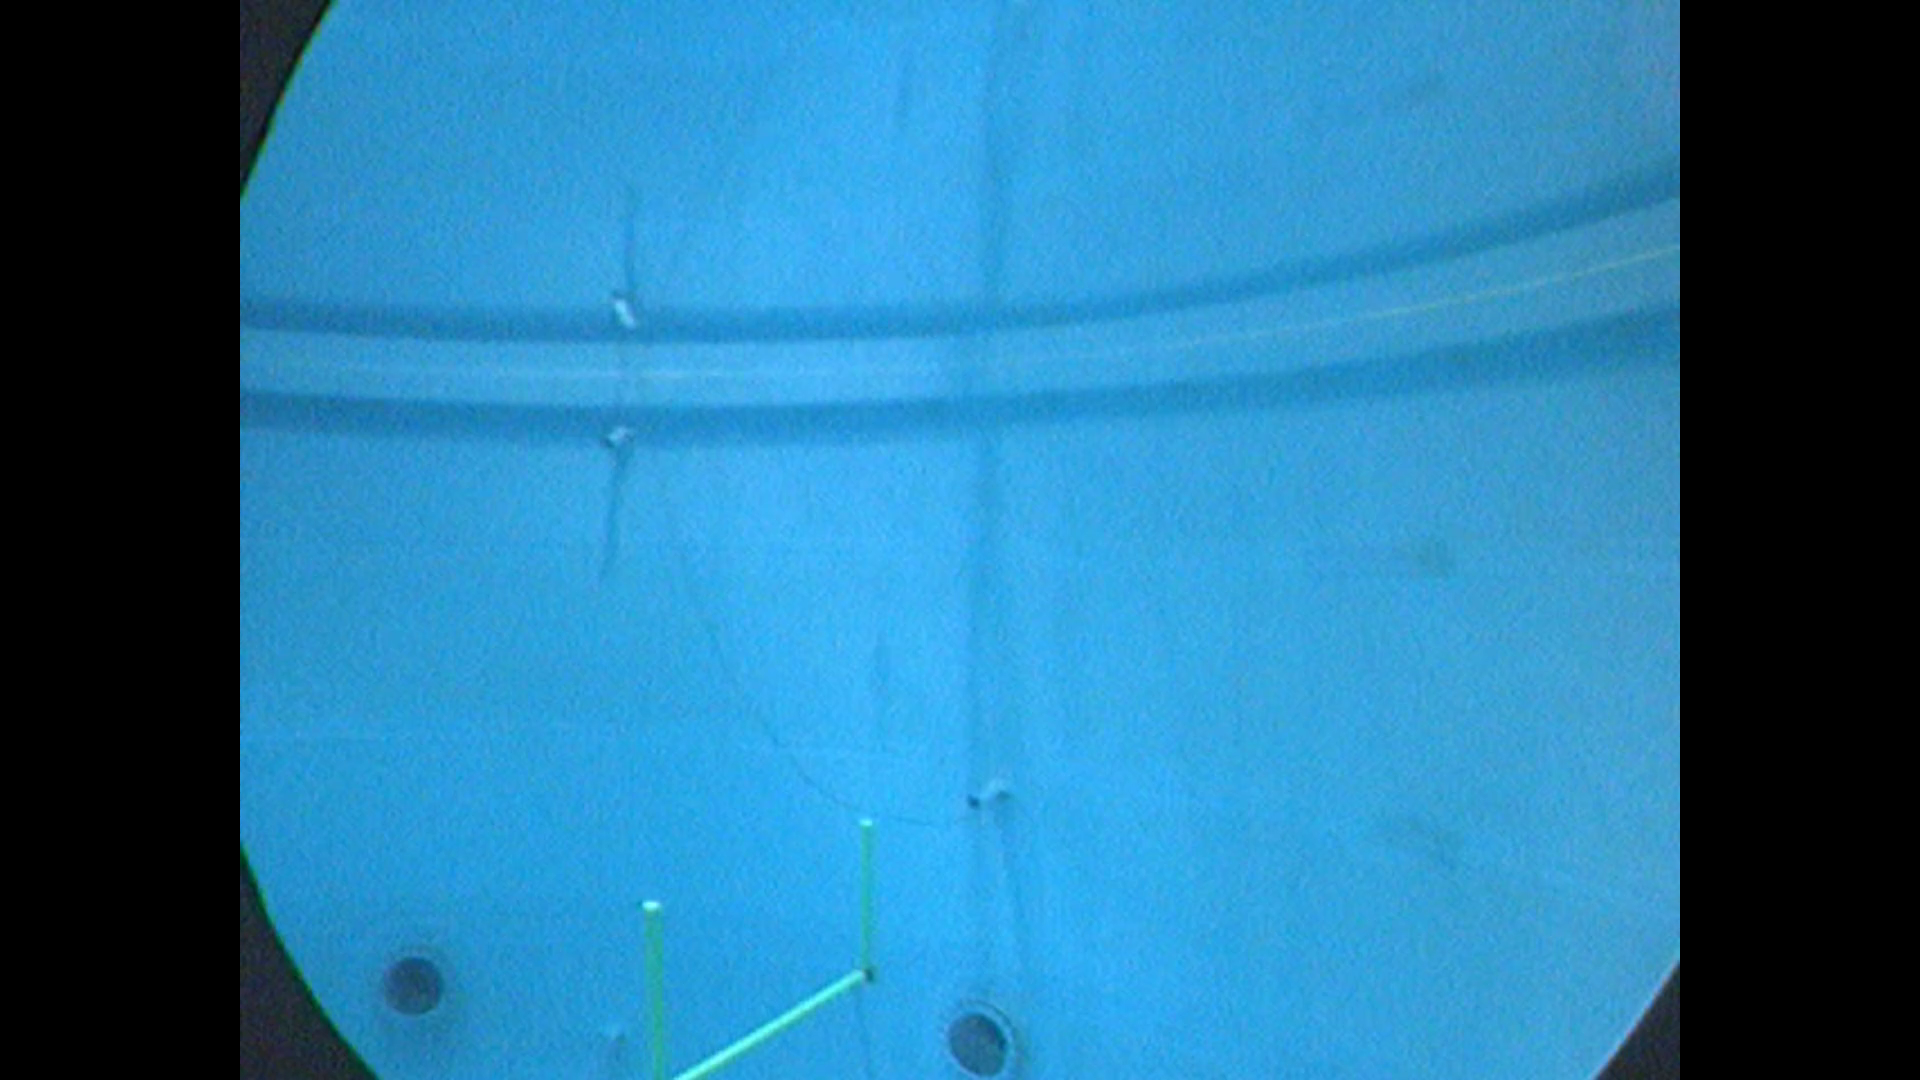gate: (644, 812, 880, 1080)
